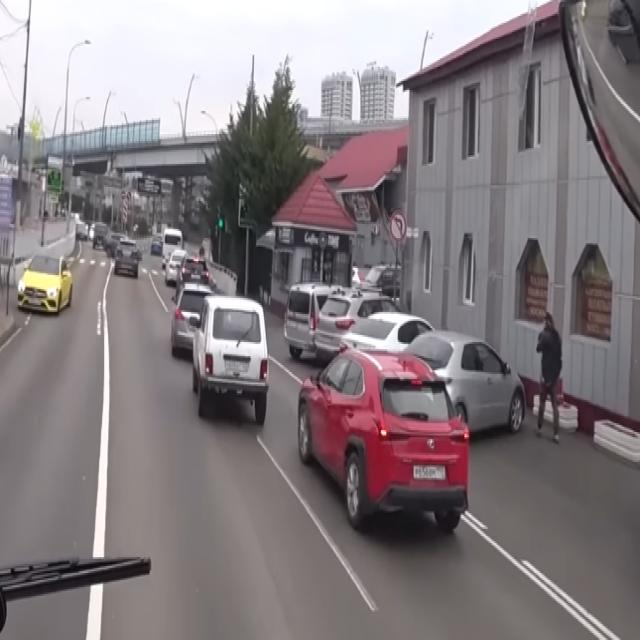non emergency car: (296, 342, 472, 540), (402, 330, 528, 443), (193, 290, 271, 432), (15, 245, 73, 317), (113, 236, 141, 284)
